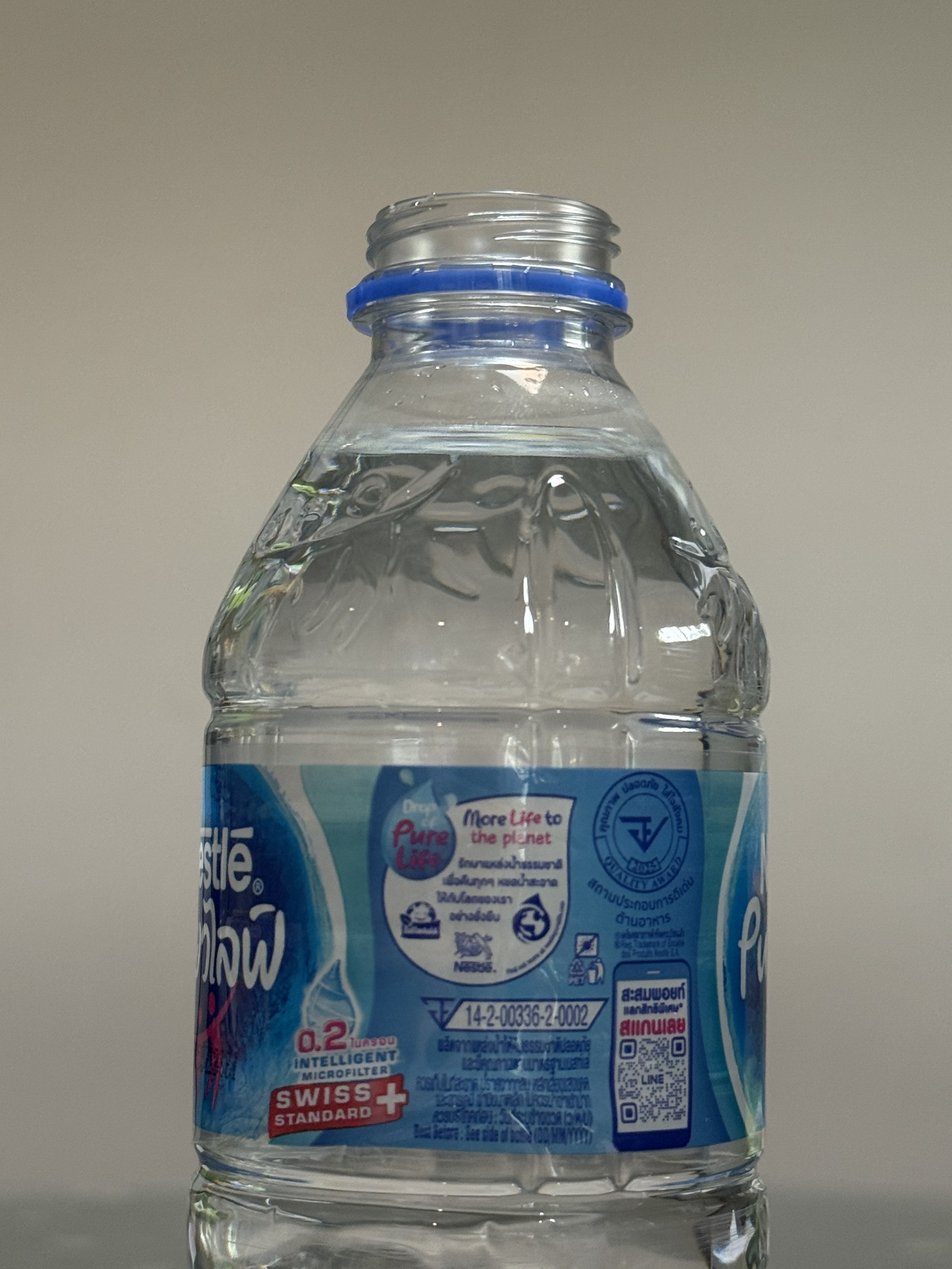no_cap: (343, 186, 631, 318)
